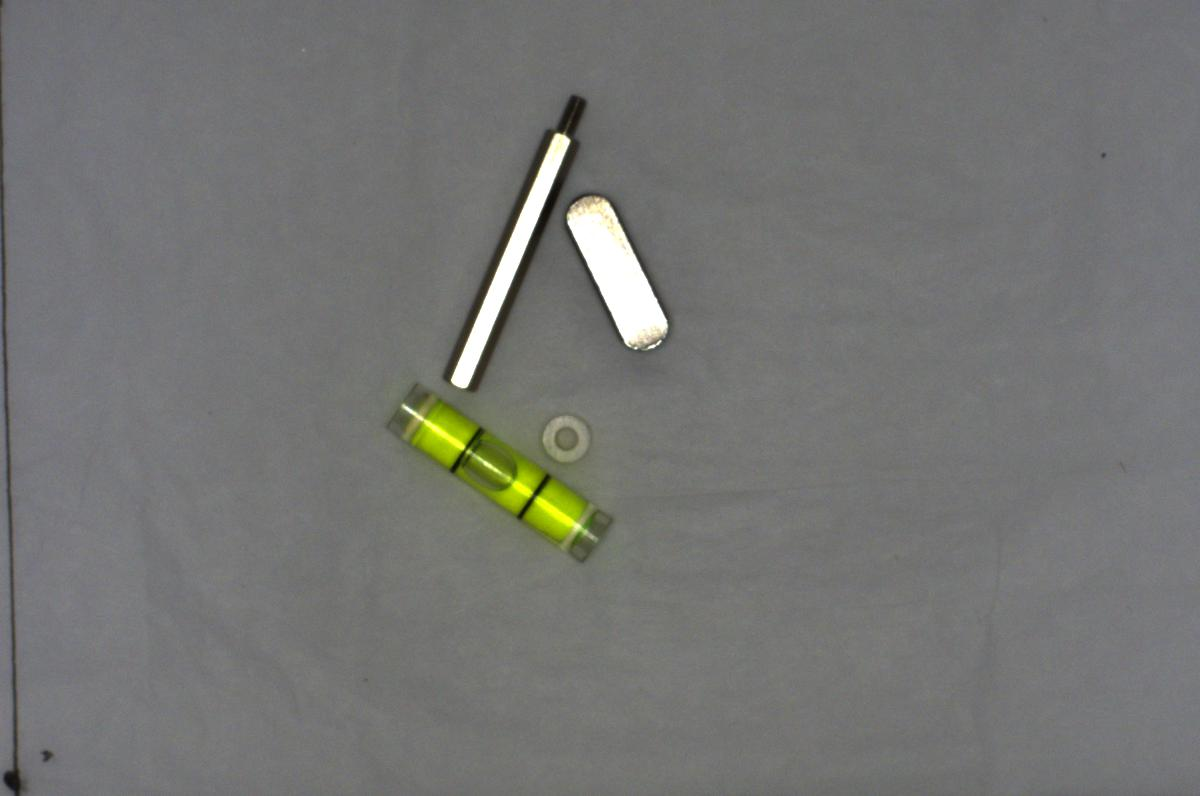Hexagonal steel column: (433, 89, 582, 392)
Horizontal bubble: (387, 392, 613, 567)
Keybar: (562, 183, 675, 356)
Plastic cushion pillar: (532, 408, 592, 461)
